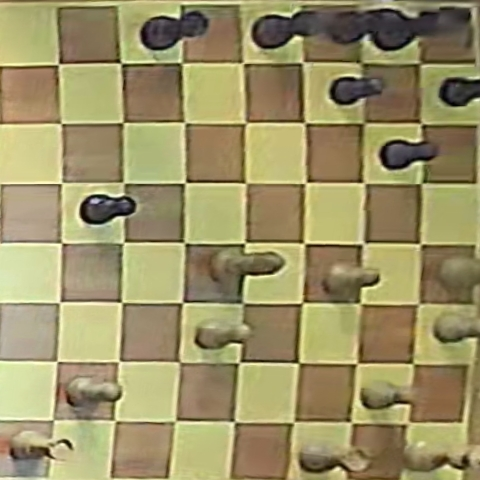black-bishop: (325, 8, 404, 48)
black-king: (372, 5, 472, 51)
black-pawn: (380, 139, 439, 170), (81, 194, 136, 225), (330, 75, 384, 106), (439, 76, 480, 107)
black-rook: (250, 8, 326, 53), (138, 9, 212, 54)
white-bishop: (207, 245, 287, 285)
white-king: (406, 441, 479, 472)
white-pawn: (321, 262, 381, 296), (195, 318, 253, 349), (66, 376, 120, 406), (363, 380, 416, 408), (434, 312, 479, 343)
white-queen: (437, 255, 480, 301)
white-rook: (301, 443, 374, 473), (10, 429, 73, 460)
